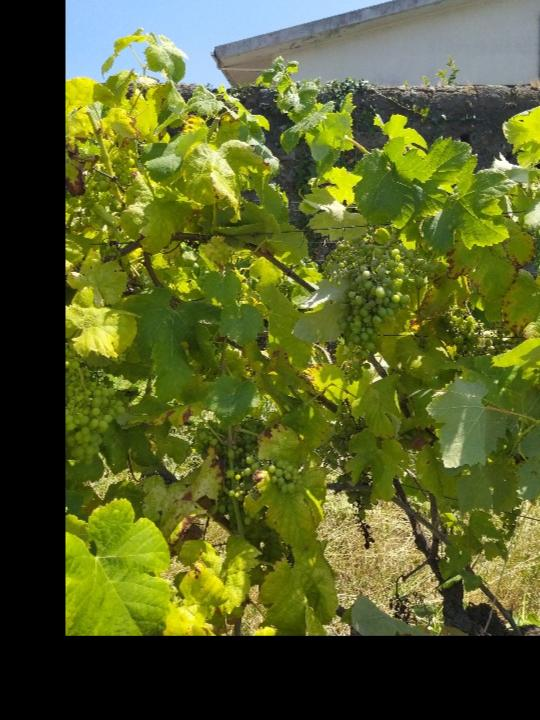grape: (336, 248, 410, 386), (65, 344, 126, 468)
